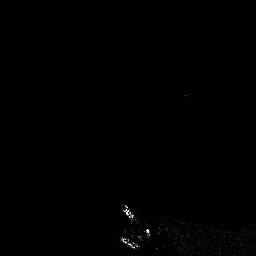ship: (115, 200, 154, 249)
